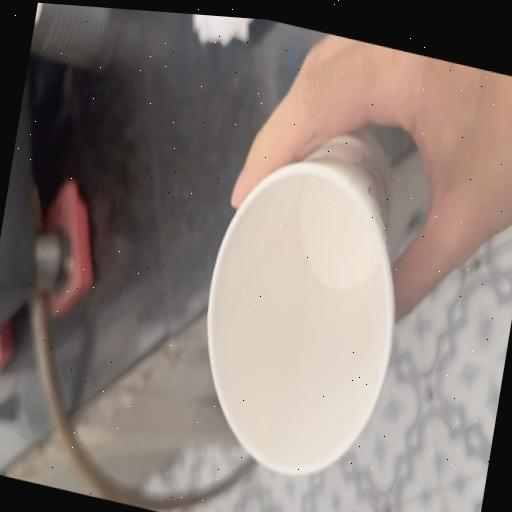Ly_giay: (207, 132, 393, 473)
